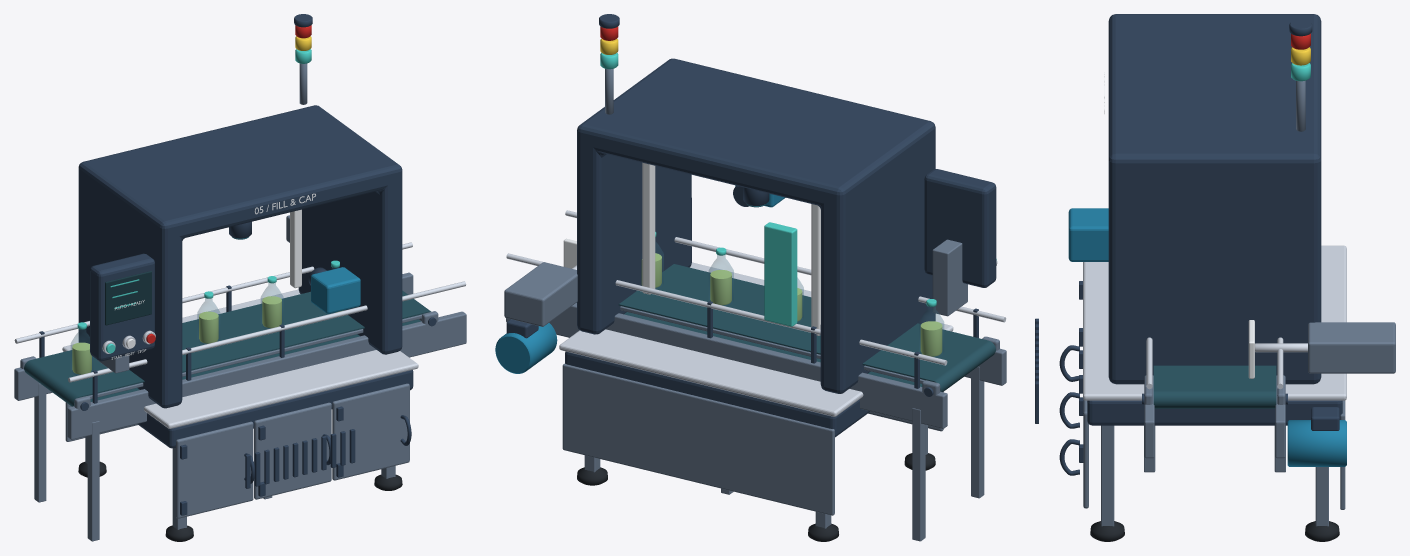
Rendered from secondary.glb.
3 views of the same model, side by side, from view 1: azimuth 30°, elevation 25°; view 2: azimuth 150°, elevation 25°; view 3: azimuth 270°, elevation 25° (orthographic). The views are drawn at different scales.
Visible parts, largest first — view 1: Folded optical hood.001, Continuous hygienic PU belt.015, Folded side channel.008, Optical base top.001, Optical base access door.003, Optical base access door.005, Optical base access door.004, Optical terminal controller.001, Optical base chassis.001, Vent louvre secondary, Optical terminal display glass.001, Side camera.001 (+14 smaller); view 2: Folded optical hood.001, Optical base rear.001, Continuous hygienic PU belt.015, Optical base top.001, Folded side channel.009, Optical terminal controller.001, Optical base chassis.001, Reject actuator.001, Fill-level illuminator, Optical terminal mounting bracket.001, Conveyor gearmotor.004, Guide rail.009 (+12 smaller); view 3: Folded optical hood.001, Optical base top.001, Continuous hygienic PU belt.015, Reject actuator.001, Optical base chassis.001, Conveyor gearmotor.004, Side camera.001, Stainless square tube.018, Stainless square tube.019, Folded side channel.008, Folded side channel.009, Motor terminal box.004 (+5 smaller).
Boxes of the visible parts, x1=… form: Folded optical hood.001: x1=78, y1=105, x2=402, y2=408; Continuous hygienic PU belt.015: x1=24, y1=290, x2=431, y2=406; Folded side channel.008: x1=67, y1=311, x2=466, y2=439; Optical base top.001: x1=62, y1=289, x2=418, y2=428; Optical base access door.003: x1=176, y1=421, x2=253, y2=518; Optical base access door.005: x1=332, y1=383, x2=409, y2=480; Optical base access door.004: x1=254, y1=402, x2=331, y2=499; Optical terminal controller.001: x1=90, y1=253, x2=154, y2=361; Optical base chassis.001: x1=137, y1=370, x2=413, y2=448; Vent louvre secondary: x1=245, y1=429, x2=355, y2=488; Optical terminal display glass.001: x1=105, y1=271, x2=151, y2=325; Side camera.001: x1=311, y1=267, x2=360, y2=313; Folded optical hood.001: x1=577, y1=58, x2=935, y2=393; Optical base rear.001: x1=562, y1=363, x2=834, y2=515; Continuous hygienic PU belt.015: x1=576, y1=264, x2=995, y2=391; Optical base top.001: x1=559, y1=262, x2=953, y2=416; Folded side channel.009: x1=506, y1=303, x2=947, y2=428; Optical terminal controller.001: x1=924, y1=169, x2=996, y2=287; Optical base chassis.001: x1=565, y1=351, x2=870, y2=437; Reject actuator.001: x1=504, y1=262, x2=577, y2=326; Fill-level illuminator: x1=764, y1=222, x2=797, y2=326; Optical terminal mounting bracket.001: x1=932, y1=239, x2=967, y2=316; Conveyor gearmotor.004: x1=495, y1=323, x2=557, y2=373; Guide rail.009: x1=506, y1=253, x2=947, y2=365; Folded optical hood.001: x1=1108, y1=14, x2=1321, y2=384; Optical base top.001: x1=1083, y1=245, x2=1346, y2=400; Continuous hygienic PU belt.015: x1=1153, y1=365, x2=1276, y2=408; Reject actuator.001: x1=1308, y1=322, x2=1395, y2=373; Optical base chassis.001: x1=1087, y1=400, x2=1342, y2=425; Conveyor gearmotor.004: x1=1287, y1=420, x2=1346, y2=466; Side camera.001: x1=1068, y1=208, x2=1108, y2=261; Stainless square tube.018: x1=1101, y1=425, x2=1114, y2=526; Stainless square tube.019: x1=1315, y1=467, x2=1328, y2=526; Folded side channel.008: x1=1144, y1=375, x2=1154, y2=458; Folded side channel.009: x1=1275, y1=375, x2=1285, y2=458; Motor terminal box.004: x1=1311, y1=407, x2=1339, y2=430.
Size of the model in its own units: 2.75 by 2.74 by 1.77.
